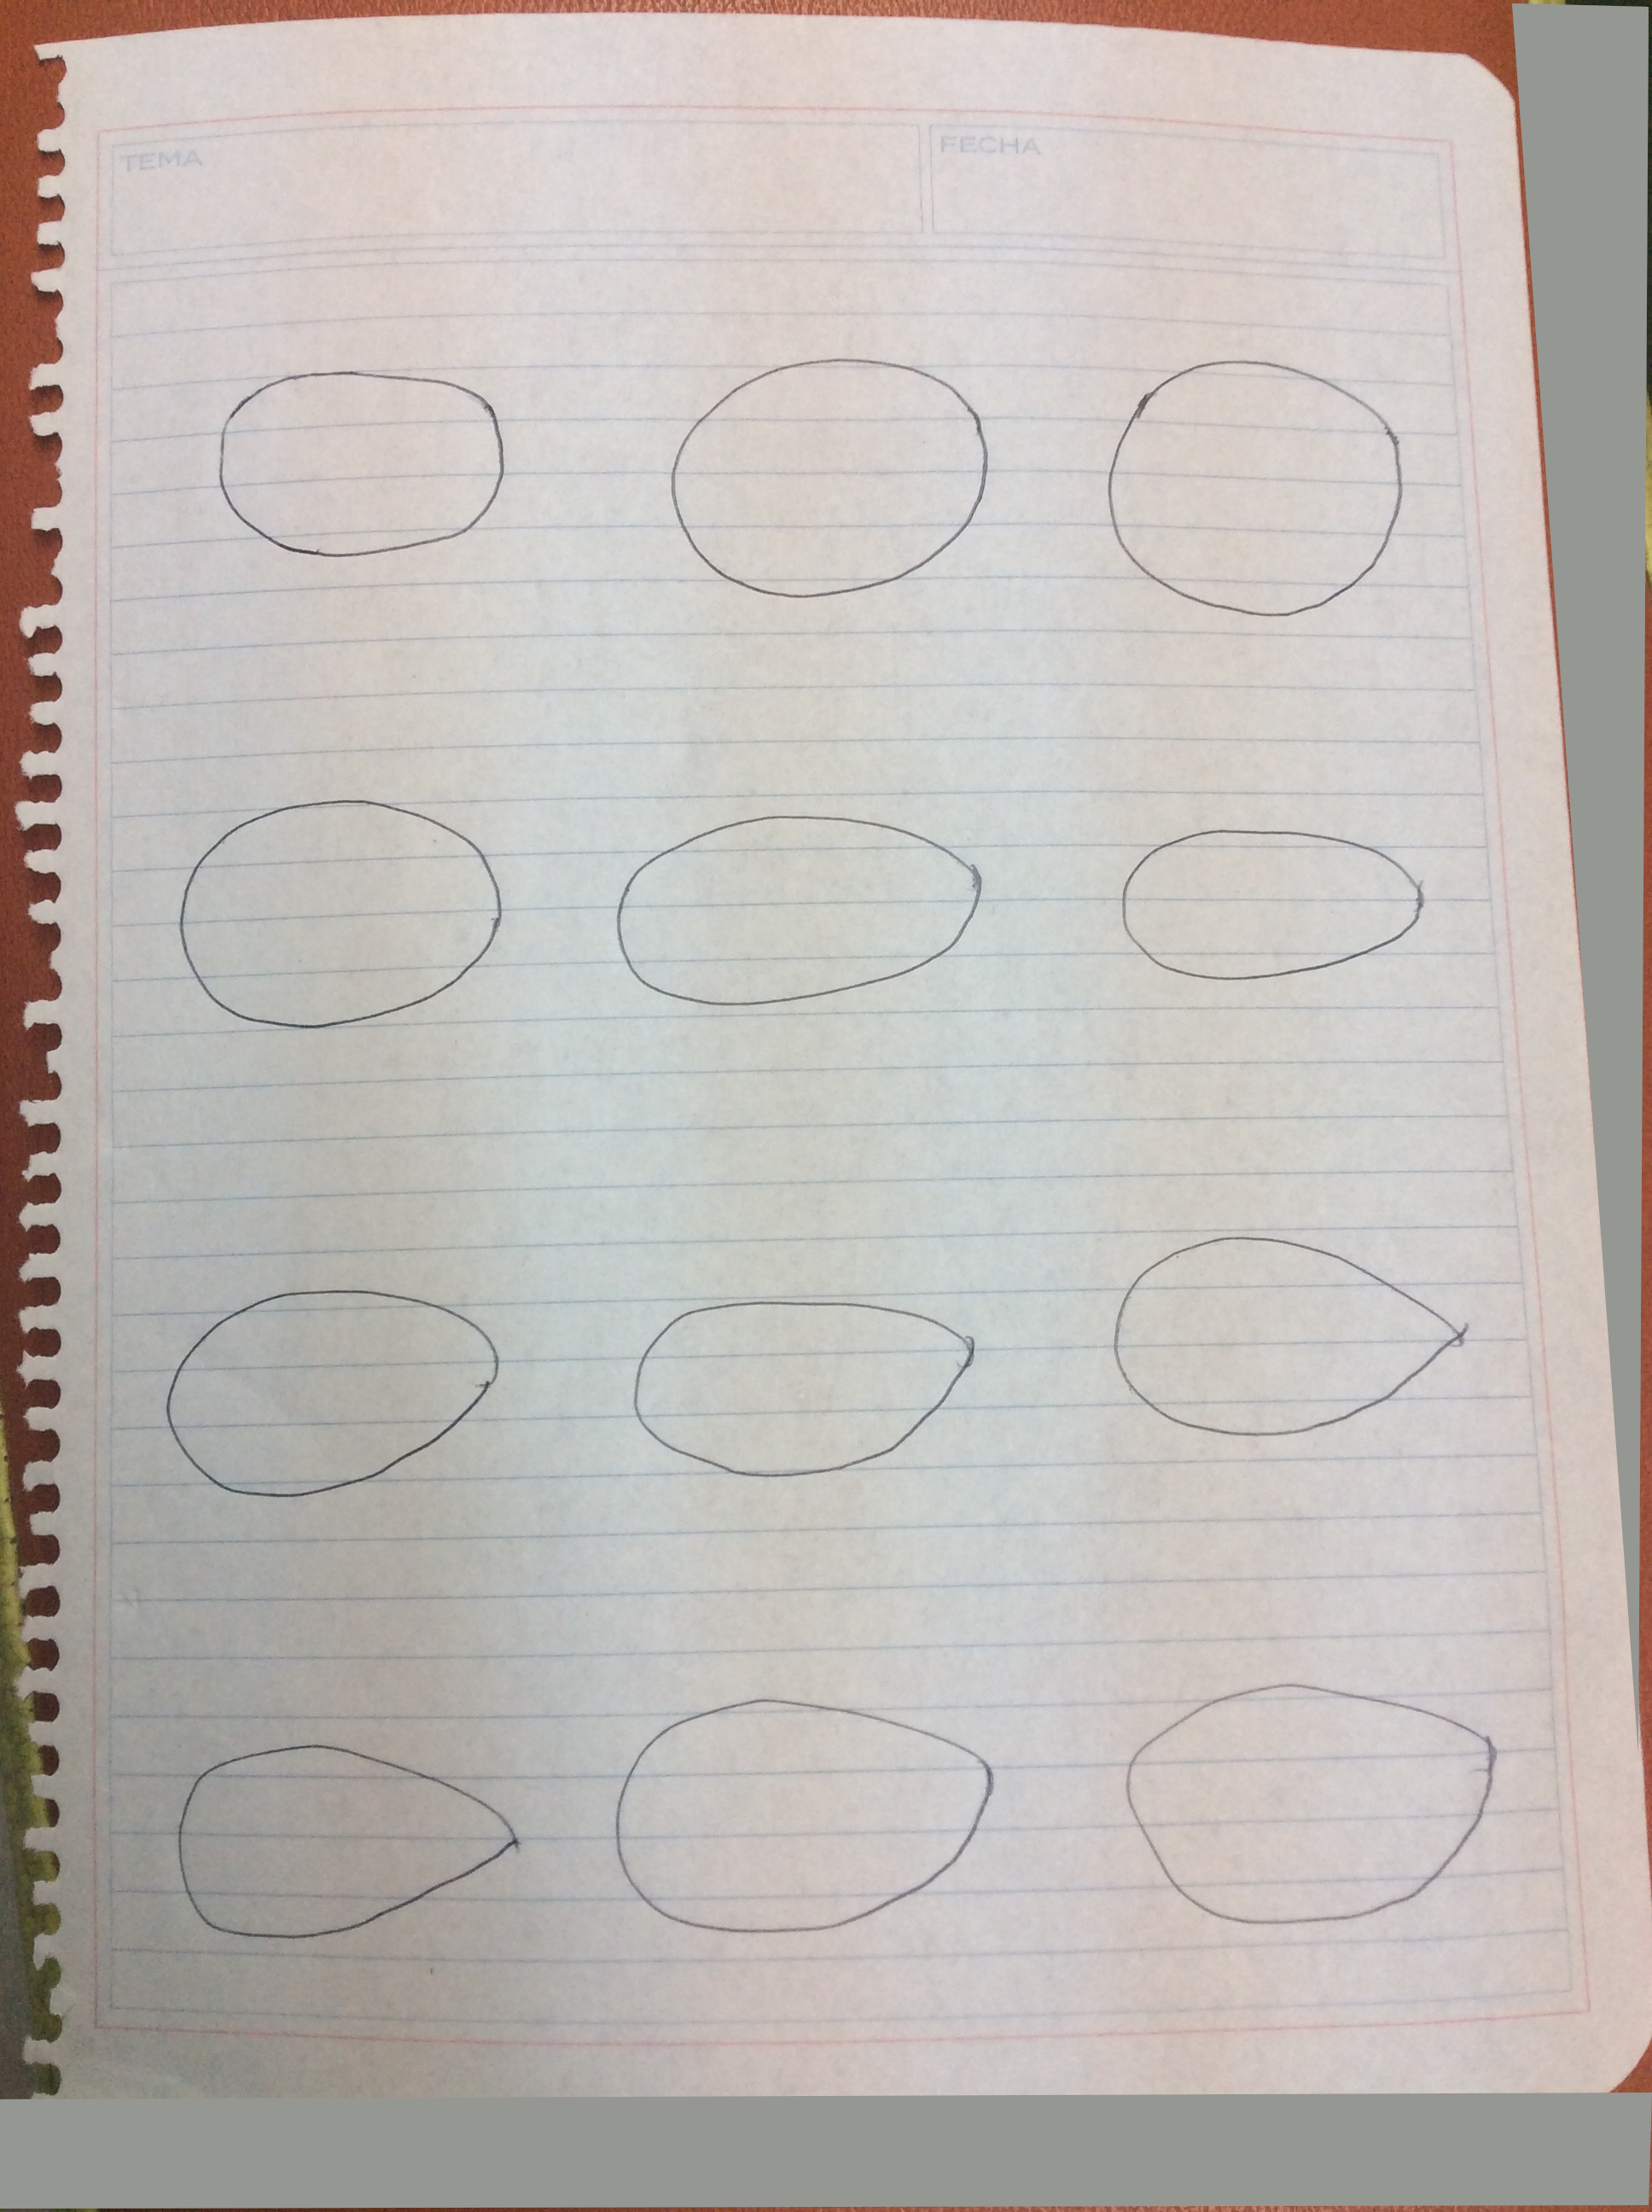start_end: (1085, 1652, 1517, 1952), (585, 1672, 1032, 1959), (1074, 1202, 1498, 1471), (128, 758, 521, 1048), (1067, 338, 1442, 638), (585, 779, 1005, 1044), (626, 338, 1019, 618), (132, 1718, 545, 1976), (585, 1260, 1001, 1506), (121, 1263, 521, 1516), (1085, 798, 1470, 1013), (186, 352, 528, 579)
